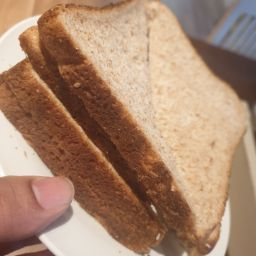Breads: (4, 5, 224, 256), (107, 3, 256, 225)
